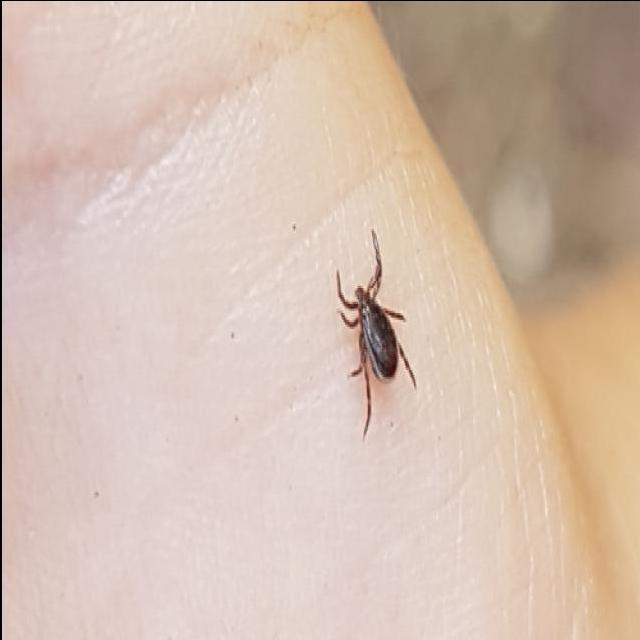Ixodes Ricinus-M: (330, 232, 415, 435)
